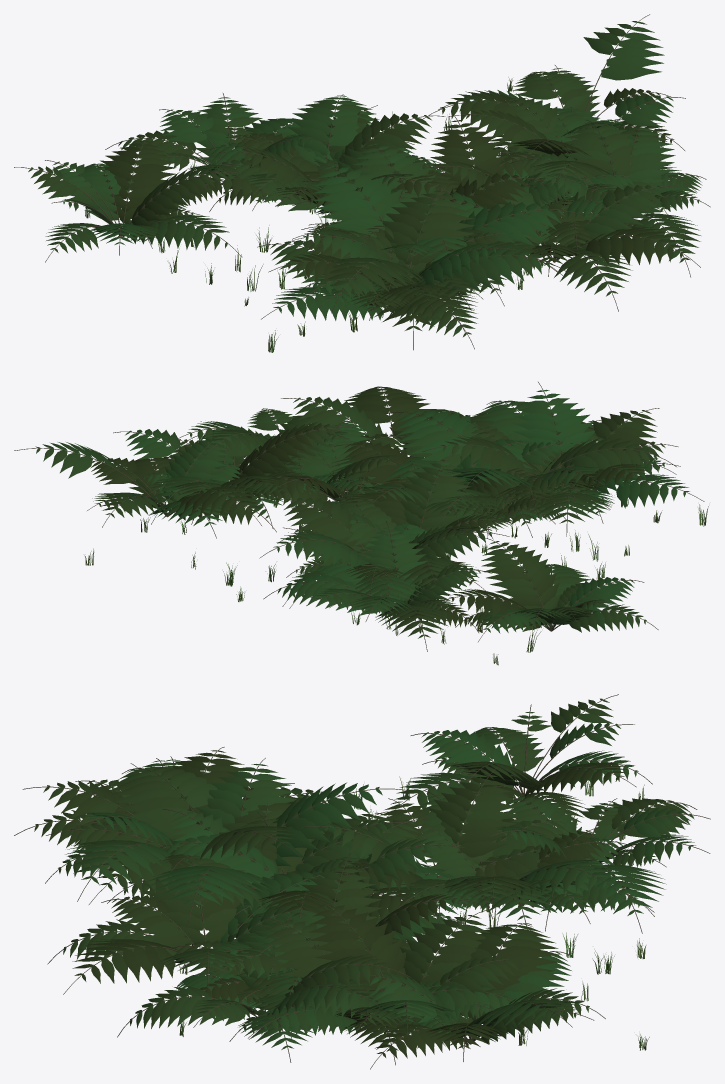
The model's file is ER_Massif_Fougeres_Geant_5x4m.gltf.
The picture shows the model from 3 angles, top to bottom: view 1: azimuth 30°, elevation 25°; view 2: azimuth 150°, elevation 25°; view 3: azimuth 270°, elevation 25°; orthographic projection. The views are drawn at different scales.
Visible parts, largest first — view 1: ER_Massif_Fougeres_Geant_5x4m_FOU.001, ER_Massif_Fougeres_Geant_5x4m_TIG.001, ER_Massif_Fougeres_Geant_5x4m_HER.001; view 2: ER_Massif_Fougeres_Geant_5x4m_FOU.001, ER_Massif_Fougeres_Geant_5x4m_TIG.001, ER_Massif_Fougeres_Geant_5x4m_HER.001; view 3: ER_Massif_Fougeres_Geant_5x4m_FOU.001, ER_Massif_Fougeres_Geant_5x4m_TIG.001, ER_Massif_Fougeres_Geant_5x4m_HER.001.
Part boxes in pixels (x1=…): ER_Massif_Fougeres_Geant_5x4m_FOU.001: x1=28, y1=21, x2=702, y2=336; ER_Massif_Fougeres_Geant_5x4m_TIG.001: x1=14, y1=14, x2=710, y2=350; ER_Massif_Fougeres_Geant_5x4m_HER.001: x1=85, y1=77, x2=687, y2=352; ER_Massif_Fougeres_Geant_5x4m_FOU.001: x1=35, y1=386, x2=689, y2=638; ER_Massif_Fougeres_Geant_5x4m_TIG.001: x1=14, y1=382, x2=704, y2=651; ER_Massif_Fougeres_Geant_5x4m_HER.001: x1=84, y1=498, x2=708, y2=665; ER_Massif_Fougeres_Geant_5x4m_FOU.001: x1=34, y1=698, x2=695, y2=1058; ER_Massif_Fougeres_Geant_5x4m_TIG.001: x1=14, y1=694, x2=710, y2=1069; ER_Massif_Fougeres_Geant_5x4m_HER.001: x1=179, y1=776, x2=649, y2=1050.
Bounding box in the file's own units: 7.05 × 0.9466 × 5.63.
